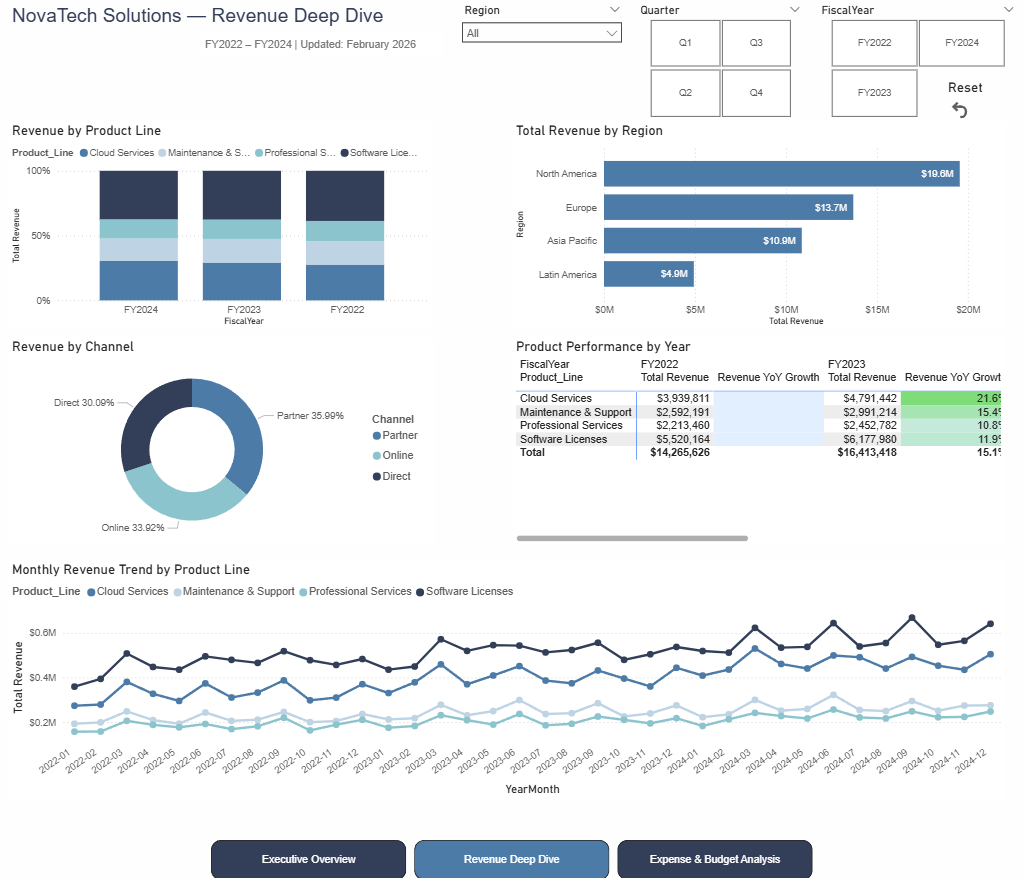

The dashboard page shown, as its layout file describes it:
{"tool":"powerbi","page":{"name":"Revenue Deep Dive","canvas":[1280,1100],"ordinal":1},"visuals":[{"type":"textbox","box":[10,0,532.2,53.3],"z":0},{"type":"slicer","fields":{"Values":["DateTable.FiscalYear"]},"box":[1013.8,0,266.2,152.5],"z":1000},{"type":"slicer","fields":{"Values":["Revenue.Region"]},"box":[567.5,0,220,76.2],"z":2000},{"type":"slicer","fields":{"Values":["DateTable.Quarter"]},"box":[787.5,0,225,152.5],"z":3000},{"type":"hundredPercentStackedColumnChart","title":"Revenue by Product Line","fields":{"Category":["DateTable.FiscalYear"],"Y":["_Measures.Total Revenue"],"Series":["Revenue.Product_Line"]},"box":[10,152.2,532.2,260],"z":4000},{"type":"clusteredBarChart","fields":{"Category":["Revenue.Region"],"Y":["_Measures.Total Revenue"]},"box":[640,152.2,616.7,260],"z":5000},{"type":"donutChart","title":"Revenue by Channel","fields":{"Category":["Revenue.Channel"],"Y":["_Measures.Total Revenue"]},"box":[10,422,532,260],"z":6000},{"type":"pivotTable","title":"Product Performance by Year","fields":{"Rows":["Revenue.Product_Line"],"Columns":["DateTable.FiscalYear"],"Values":["_Measures.Total Revenue","_Measures.Revenue YoY Growth"]},"box":[640,422.5,616.2,260],"z":7000},{"type":"lineChart","title":"Monthly Revenue Trend by Product Line","fields":{"Category":["DateTable.YearMonth"],"Y":["_Measures.Total Revenue"],"Series":["Revenue.Product_Line"]},"box":[10,701.2,1246.2,298.8],"z":8000},{"type":"pageNavigator","box":[263.3,1050,753.3,50],"z":8001},{"type":"actionButton","title":"Reset","box":[1185,98.3,71.7,53.3],"z":8002},{"type":"textbox","box":[251.2,42.5,302.5,25],"z":8003}]}

Visuals, with their boxes in screenshot pixels (x1, y1, x2, y2), scaled from the page's 1280x1100 canvas onto the 1023x878 screenshot:
textbox: pyautogui.locateOnScreen(8, 0, 433, 43)
slicer - DateTable.FiscalYear: pyautogui.locateOnScreen(810, 0, 1022, 122)
slicer - Revenue.Region: pyautogui.locateOnScreen(454, 0, 629, 61)
slicer - DateTable.Quarter: pyautogui.locateOnScreen(629, 0, 809, 122)
"Revenue by Product Line" hundredPercentStackedColumnChart: pyautogui.locateOnScreen(8, 121, 433, 329)
clusteredBarChart - Revenue.Region x _Measures.Total Revenue: pyautogui.locateOnScreen(512, 121, 1004, 329)
"Revenue by Channel" donutChart: pyautogui.locateOnScreen(8, 337, 433, 544)
"Product Performance by Year" pivotTable: pyautogui.locateOnScreen(512, 337, 1004, 545)
"Monthly Revenue Trend by Product Line" lineChart: pyautogui.locateOnScreen(8, 560, 1004, 798)
pageNavigator: pyautogui.locateOnScreen(210, 838, 812, 877)
"Reset" actionButton: pyautogui.locateOnScreen(947, 78, 1004, 121)
textbox: pyautogui.locateOnScreen(201, 34, 443, 54)
